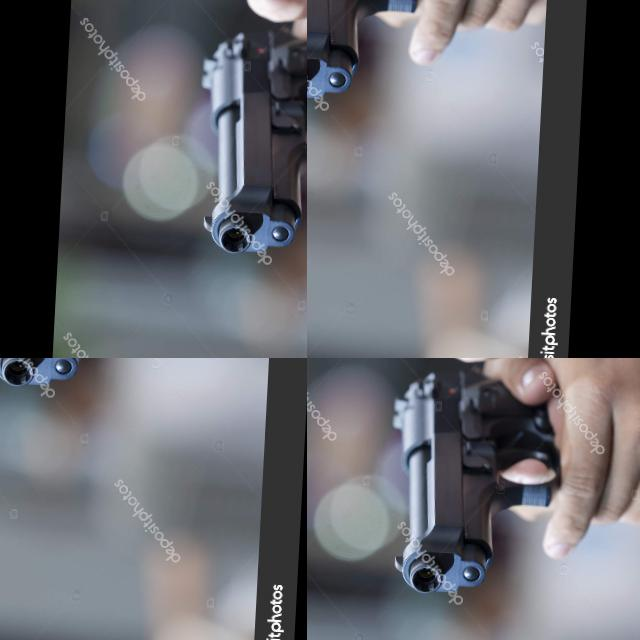handgun: (0, 358, 178, 633), (379, 362, 569, 606), (82, 207, 307, 358), (307, 218, 349, 268)
